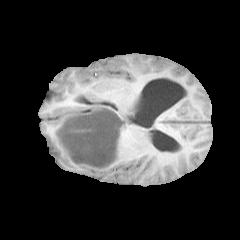glioma: (53, 104, 128, 173)
